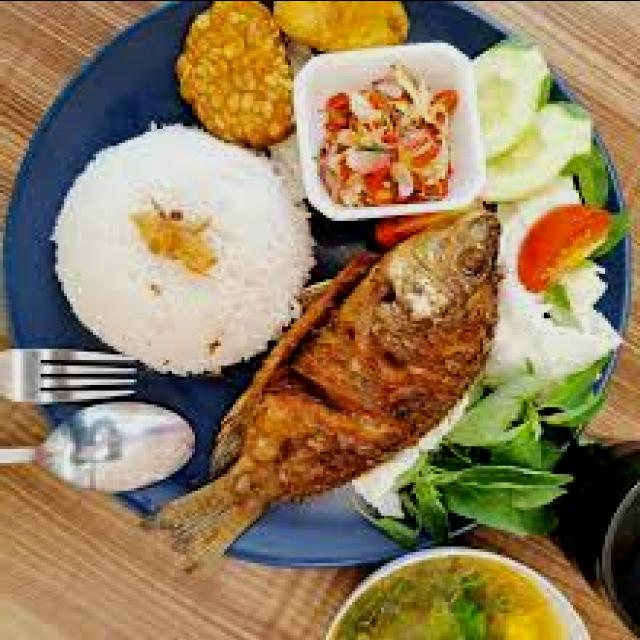ikan goreng: (143, 203, 500, 568)
nasi: (47, 117, 326, 378)
tempe goreng: (172, 0, 294, 150)
